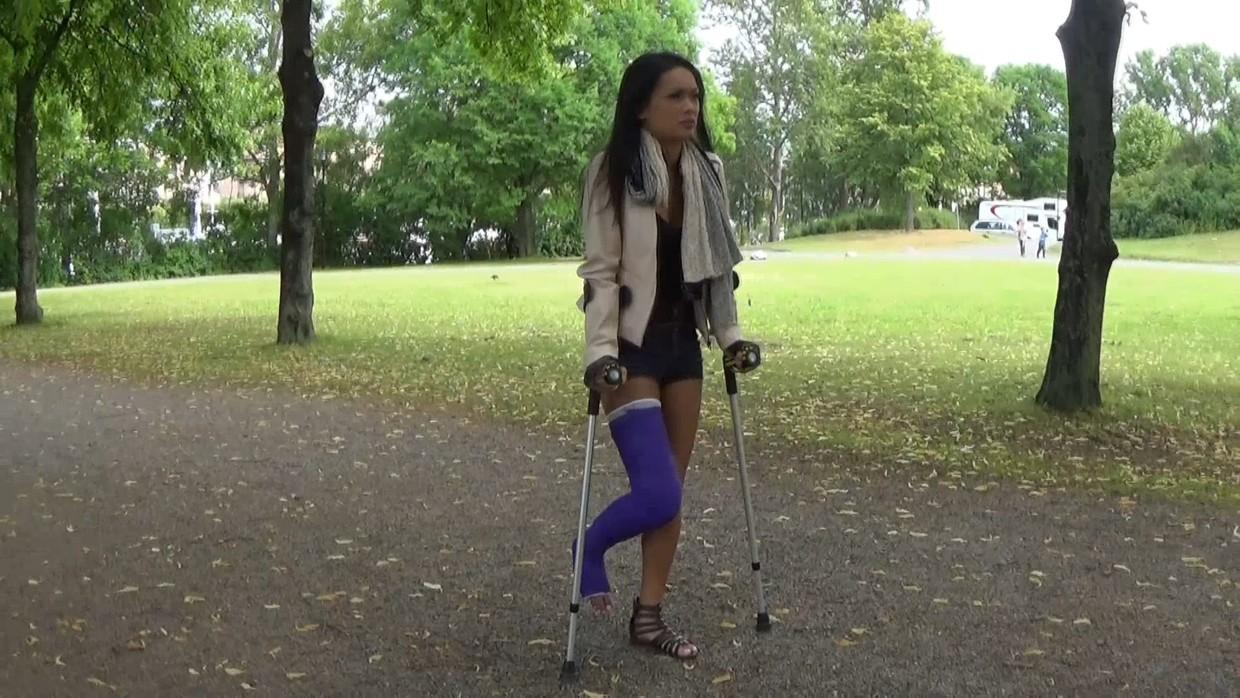crutches: (560, 49, 773, 680)
